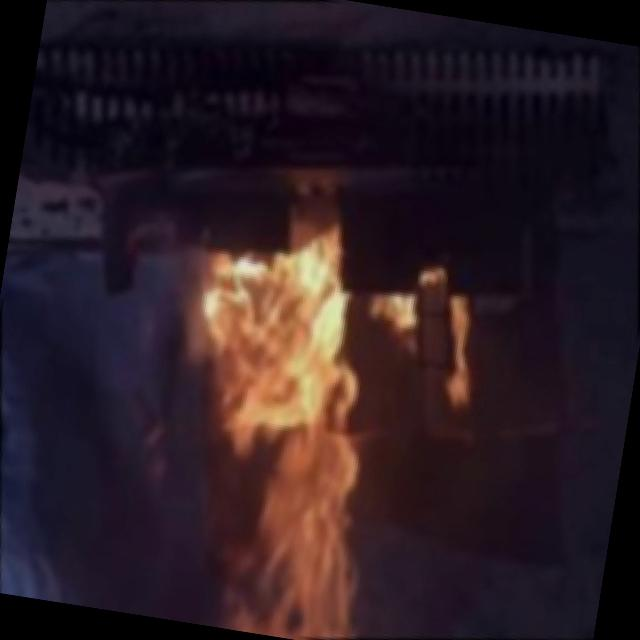fire: (107, 205, 440, 640)
